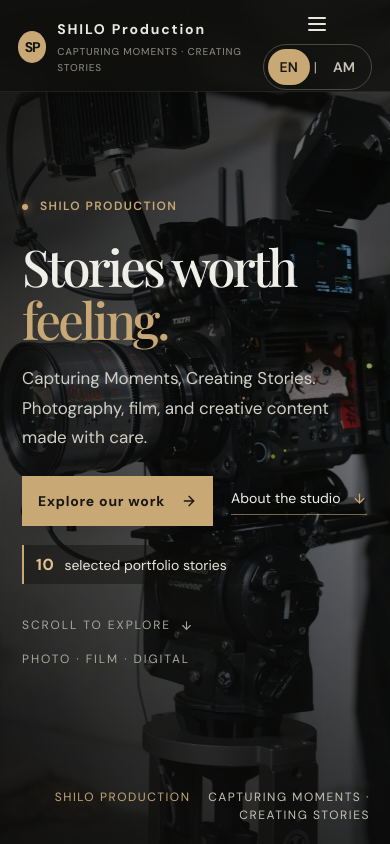
Test case: SHILO Production homepage › opens mobile navigation and closes it after choosing a section
Click the button named "Open menu": (317, 24) [297, 4, 337, 44]
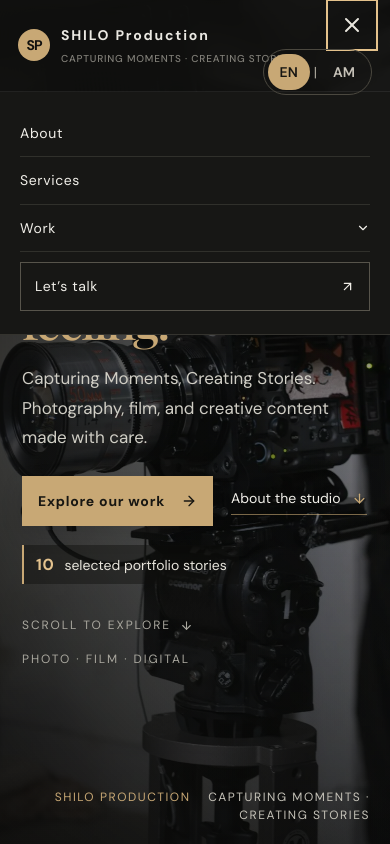
Result: the button named "Open menu" is expanded at [332, 5, 372, 45]
Click the link "About": (42, 133) [20, 110, 370, 157]
(page scrolled)
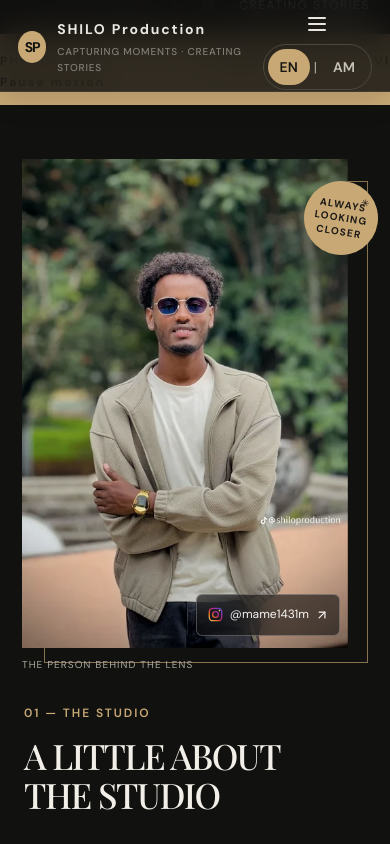
Result: the button named "Open menu" is collapsed at [297, 4, 337, 44]
